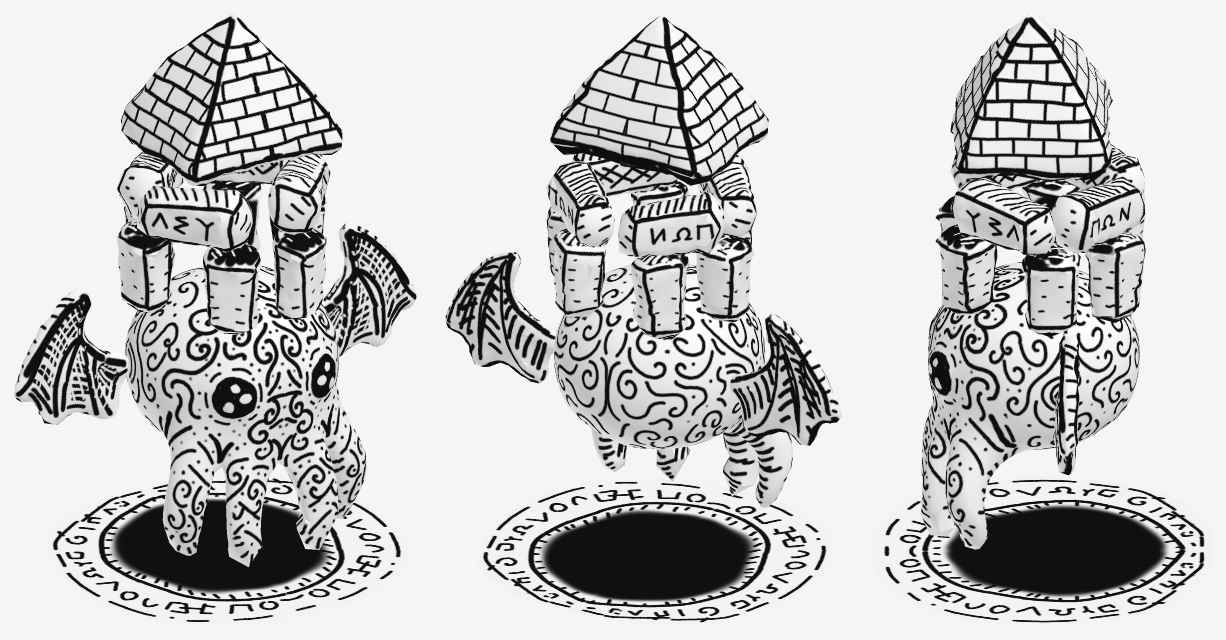
Rendered from creature.glb.
3 views of the same model, side by side, from view 1: azimuth 30°, elevation 25°; view 2: azimuth 150°, elevation 25°; view 3: azimuth 270°, elevation 25° (orthographic).
Visible parts, largest first — view 1: Object_2; view 2: Object_2; view 3: Object_2.
Boxes of the visible parts, x1,y1,x2,y2 form: Object_2: [14, 14, 416, 625]; Object_2: [445, 14, 841, 625]; Object_2: [870, 14, 1211, 625].
Bounding box in the file's own units: 4.32 × 5.54 × 3.19.
1 material, 1 textured.
